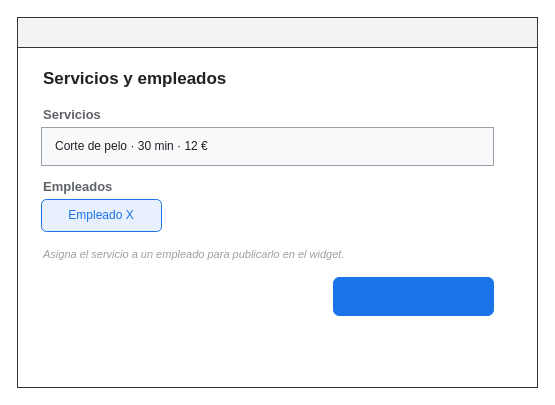
Image size: 555x405. Some labels were removed from this diagram. The shapes that lost their labels are listed below. From the top down, each one's box as (x1, y1, x2, y2) in pixels, then its label:
(16, 16, 538, 48): Panel · Catálogo de servicios
(332, 276, 494, 316): Asignar servicio
